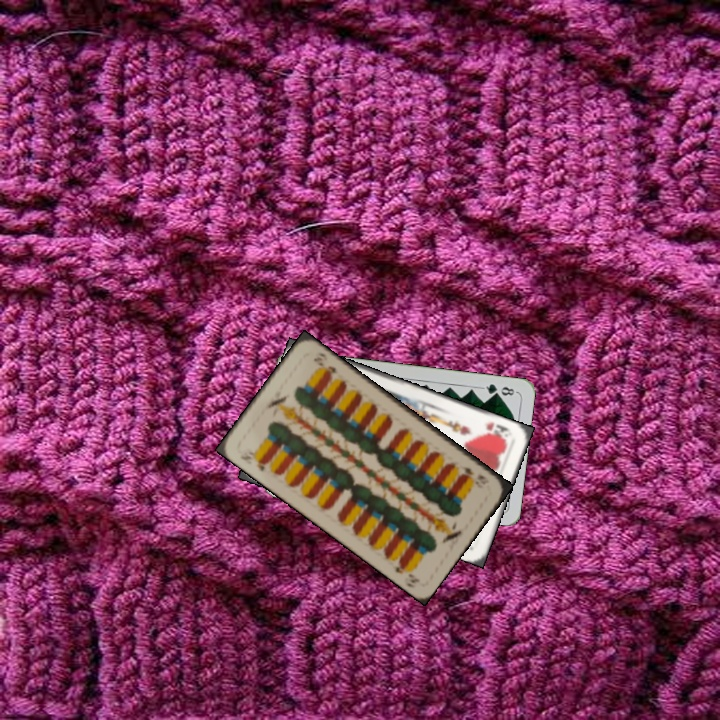E10: (236, 449, 270, 474), (454, 462, 488, 483)
G8: (479, 380, 519, 398)
HK: (481, 418, 514, 442)
